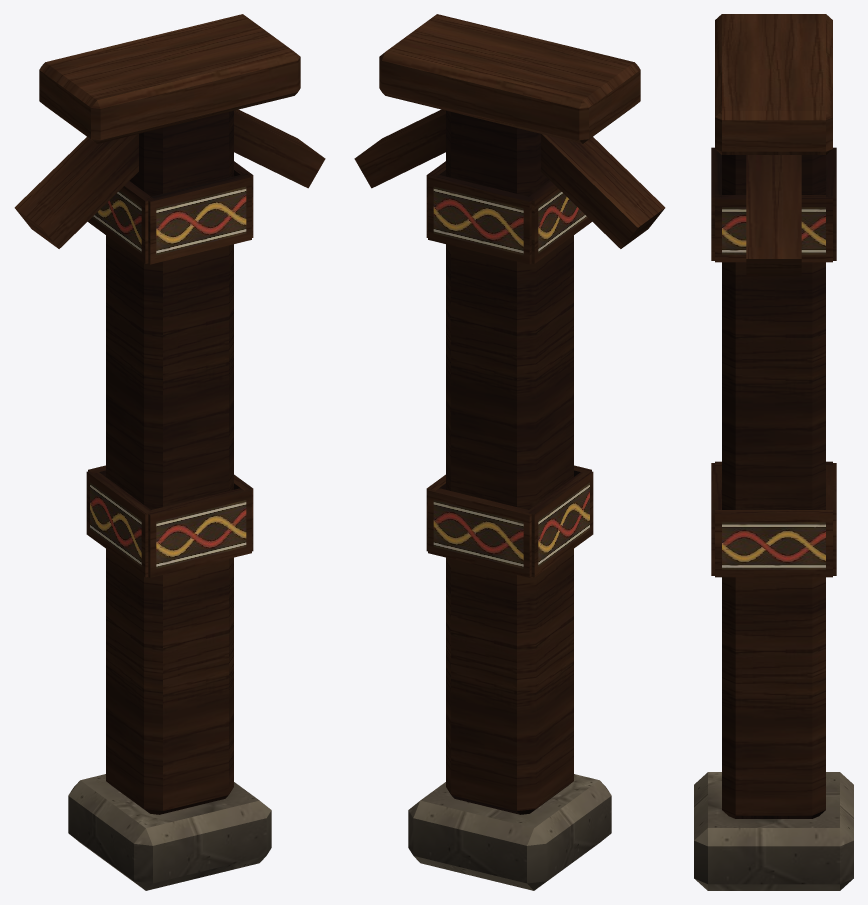
Rendered from interior_post.glb.
The picture shows the model from 3 angles, left to right: view 1: azimuth 30°, elevation 25°; view 2: azimuth 150°, elevation 25°; view 3: azimuth 270°, elevation 25°; orthographic projection.
Parts seen in each view (by area): view 1: interior_post; view 2: interior_post; view 3: interior_post.
Part boxes in pixels (x1,y1,x2,y2): interior_post: [14, 14, 325, 890]; interior_post: [354, 14, 665, 890]; interior_post: [694, 14, 853, 890].
Bounding box in the file's own units: 0.9469 × 2.54 × 0.46.
3 materials, 3 textured.
